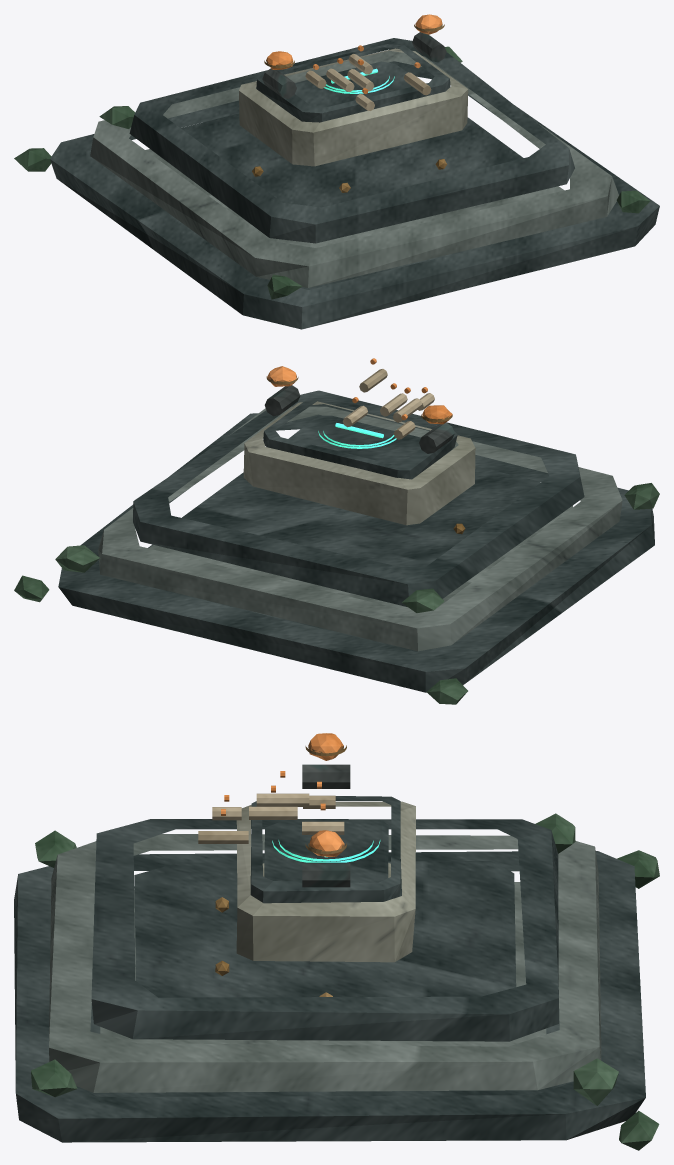
Rendered from 0461_altar_11.glb.
The picture shows the model from 3 angles, top to bottom: view 1: azimuth 30°, elevation 25°; view 2: azimuth 150°, elevation 25°; view 3: azimuth 270°, elevation 25°; orthographic projection. The views are drawn at different scales.
Parts seen in each view (by area): view 1: stone_dark, stone, stone_light, moss, bone, iron, amber, brass; view 2: stone_dark, stone, stone_light, moss, bone, iron, amber, glow; view 3: stone_dark, stone, stone_light, moss, bone, iron, amber, brass.
Boxes of the visible parts, x1,y1,x2,y2 form: stone_dark: (50, 38, 659, 329); stone: (90, 50, 618, 287); stone_light: (239, 48, 468, 166); moss: (14, 46, 650, 299); bone: (305, 54, 431, 110); iron: (262, 32, 446, 98); amber: (266, 14, 442, 93); brass: (252, 24, 447, 192); stone_dark: (58, 390, 654, 692); stone: (98, 406, 622, 651); stone_light: (243, 401, 475, 525); moss: (14, 483, 659, 704); bone: (342, 369, 434, 439); iron: (264, 385, 454, 453); amber: (267, 358, 452, 424); glow: (318, 423, 396, 448); stone_dark: (14, 796, 645, 1142); stone: (49, 834, 601, 1092); stone_light: (236, 801, 415, 962); moss: (31, 813, 659, 1150); bone: (198, 793, 344, 843); iron: (302, 764, 350, 887); amber: (221, 733, 344, 856); brass: (215, 745, 346, 996).
Bounding box in the file's own units: 3.38 × 1.29 × 3.23.
9 materials, 9 textured.
